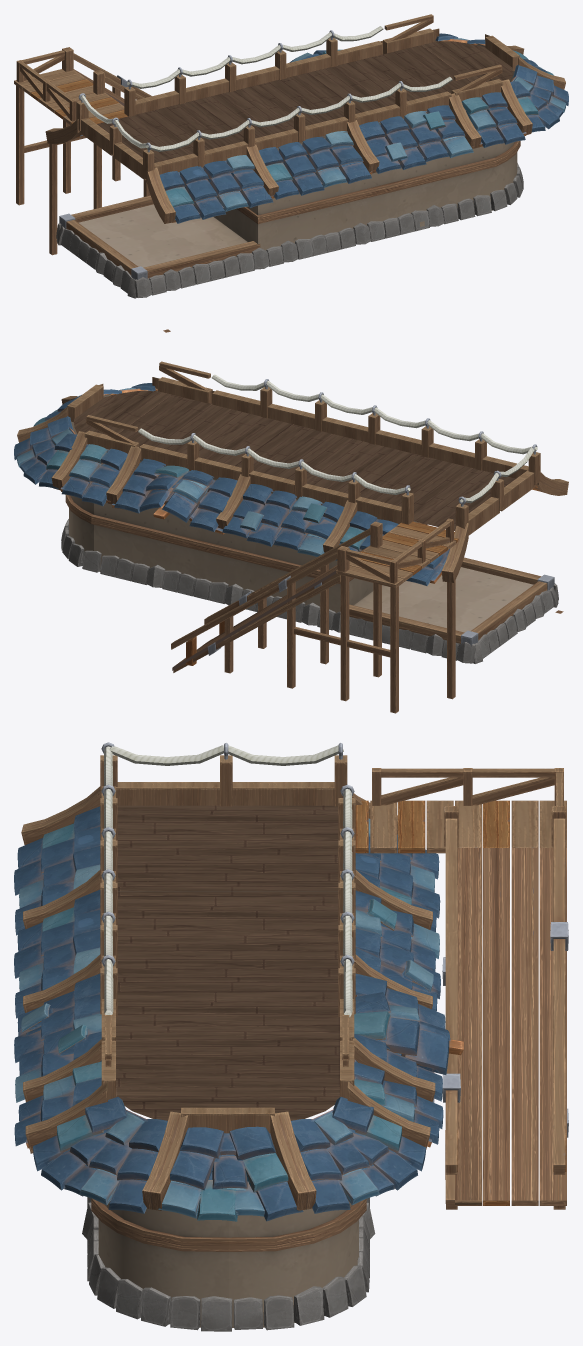
Rendered from envi1 endpoint.fbx.
3 renders of one model, top to bottom at view 1: azimuth 30°, elevation 25°; view 2: azimuth 150°, elevation 25°; view 3: azimuth 270°, elevation 25°, orthographic. The views are drawn at different scales.
Parts seen in each view (by area): view 1: start pint.001; view 2: start pint.001; view 3: start pint.001.
Boxes of the visible parts, x1,y1,x2,y2 form: start pint.001: [14, 14, 568, 332]; start pint.001: [14, 361, 568, 713]; start pint.001: [14, 742, 568, 1331].
Size of the model in its own units: 1442 by 520 by 878.
4 materials, 4 textured.
